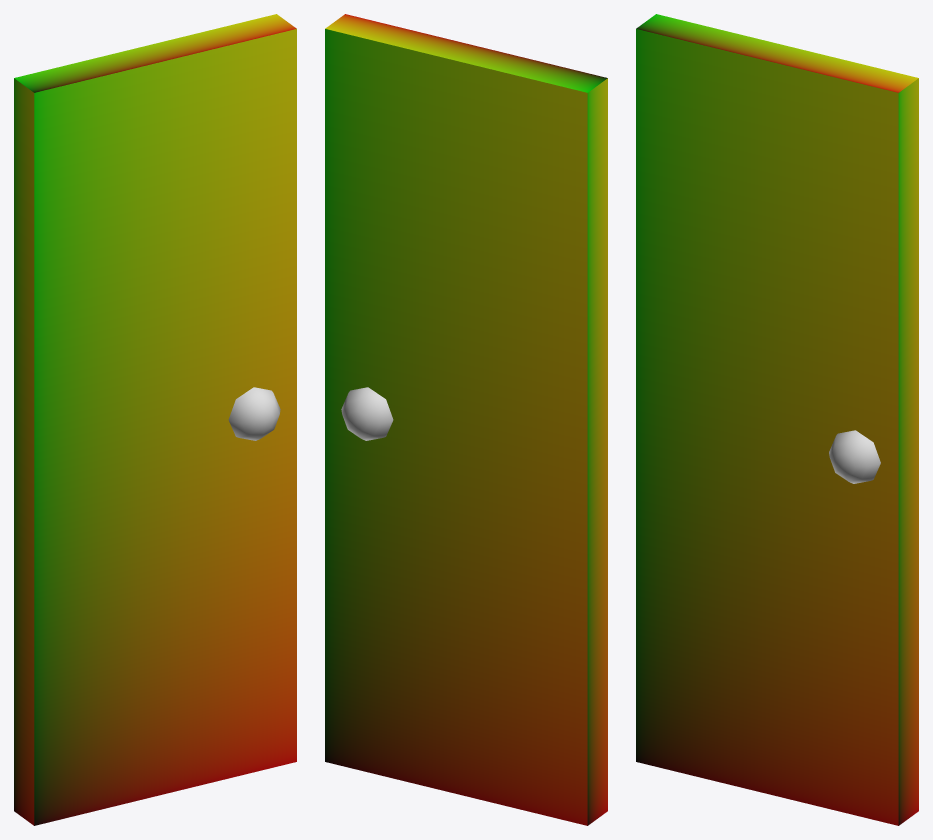
File: SM_30_PuertaDefault.fbx
3 renders of one model, left to right at view 1: azimuth 30°, elevation 25°; view 2: azimuth 150°, elevation 25°; view 3: azimuth 330°, elevation 25°, orthographic.
Parts seen in each view (by area): view 1: Puerta; view 2: Puerta; view 3: Puerta.
Part boxes in pixels (left/top/right/bottom): Puerta: left=14, top=14, right=296, bottom=825; Puerta: left=325, top=14, right=607, bottom=825; Puerta: left=636, top=14, right=918, bottom=825.
Size of the model in its own units: 75 by 200 by 21.48.
